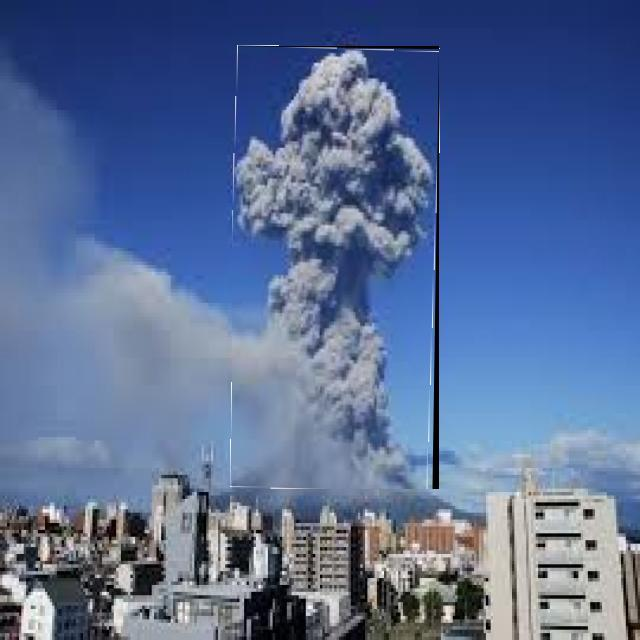smoke: (62, 235, 258, 436), (2, 61, 104, 433), (258, 276, 412, 488), (236, 154, 434, 272), (238, 50, 440, 151)
